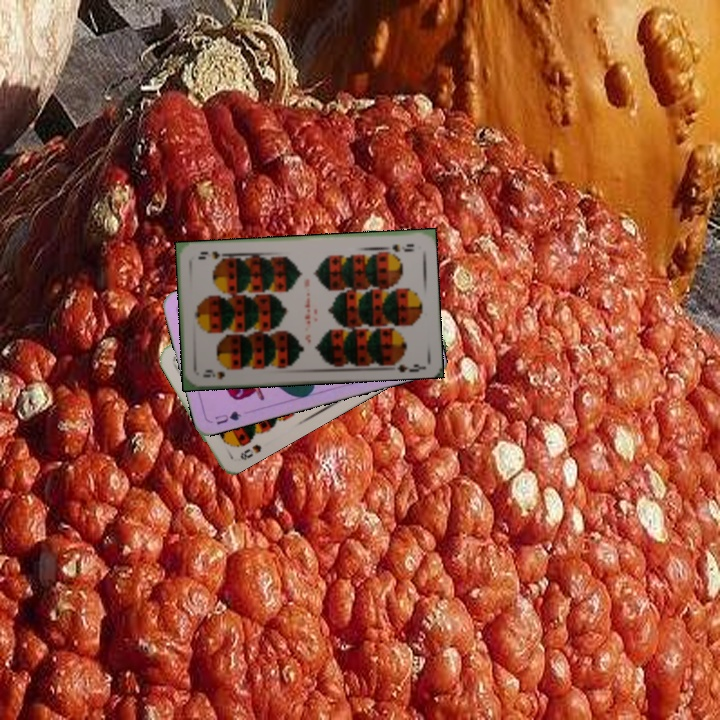GU: (211, 407, 244, 427)
S8: (236, 440, 264, 463)
S9: (199, 365, 227, 382), (388, 240, 417, 254)
